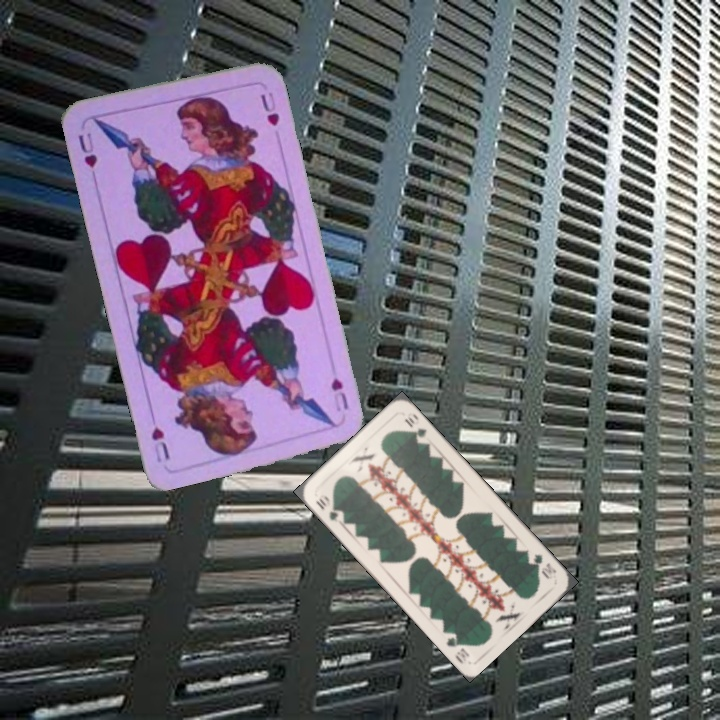G10: (311, 492, 342, 525), (529, 550, 559, 582)
HU: (74, 128, 100, 183), (327, 374, 351, 414)
